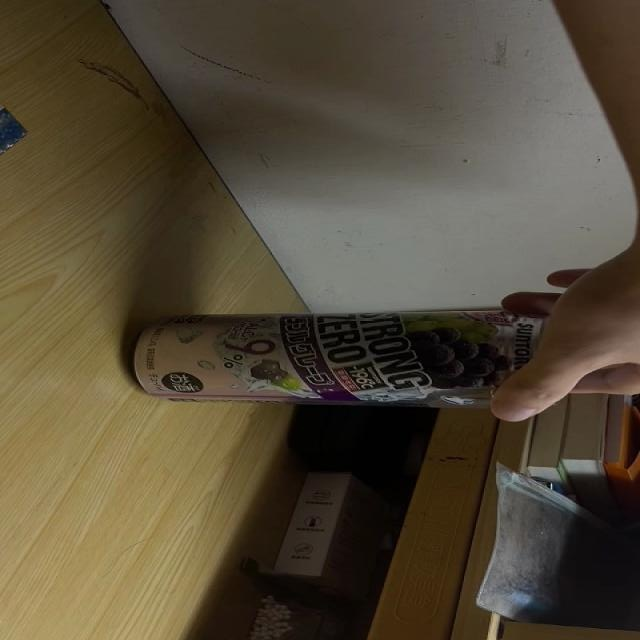Liquor: (132, 307, 561, 403)
